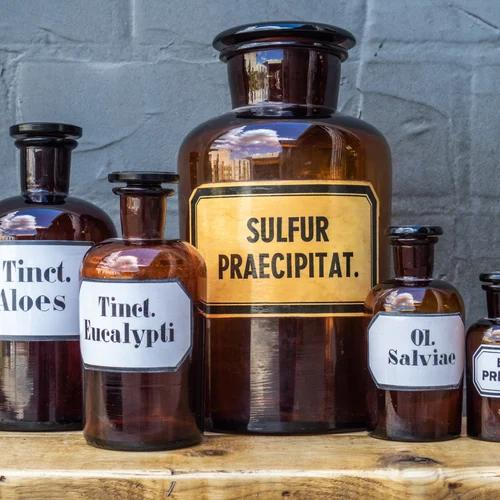glass: (179, 23, 391, 432), (0, 117, 118, 430), (80, 166, 207, 450), (370, 224, 465, 435), (462, 274, 500, 445)
